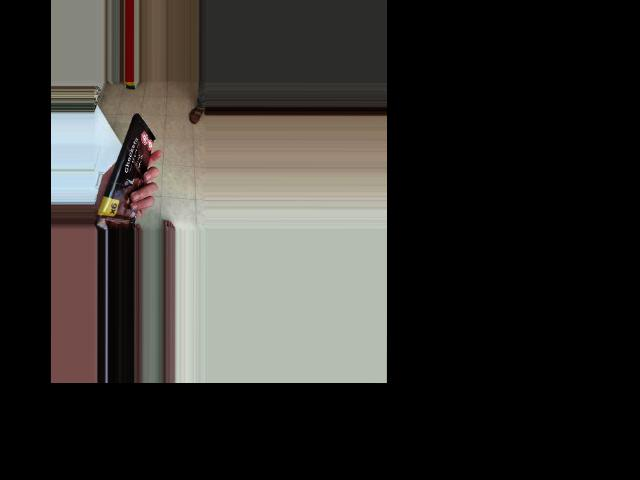chocolate: (102, 115, 153, 230)
